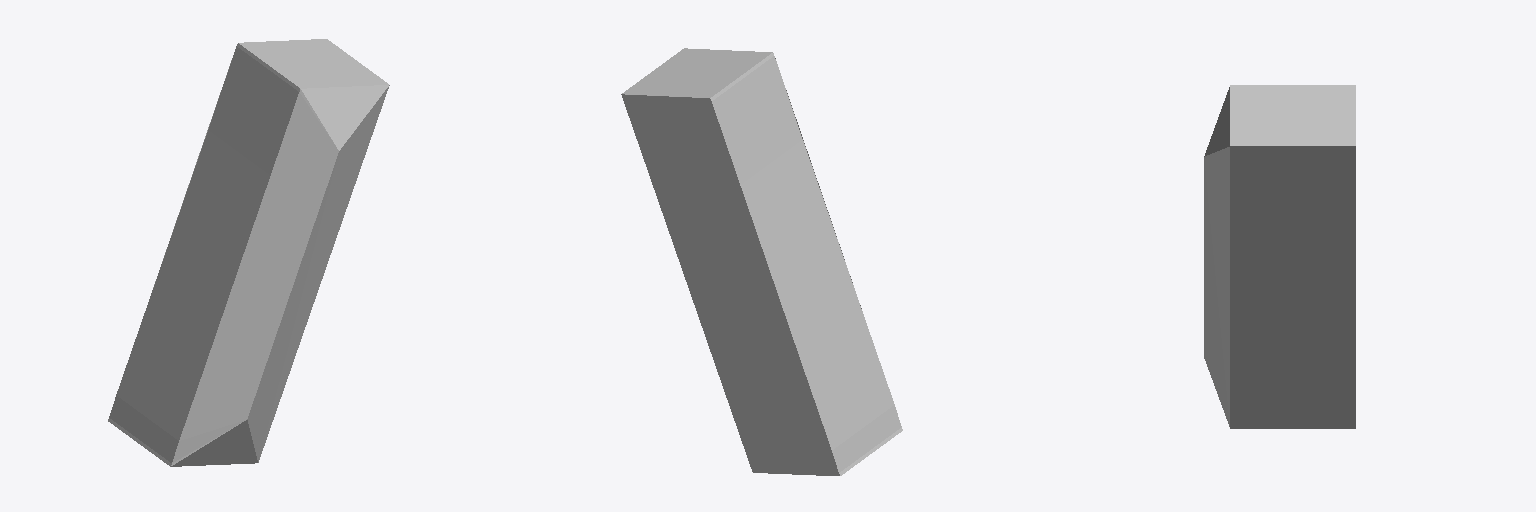
File: building_23.obj
The picture shows the model from 3 angles: view 1: azimuth 30°, elevation 25°; view 2: azimuth 150°, elevation 25°; view 3: azimuth 270°, elevation 25°; orthographic projection.
Size of the model in its own units: 38.75 by 61.5 by 23.23.